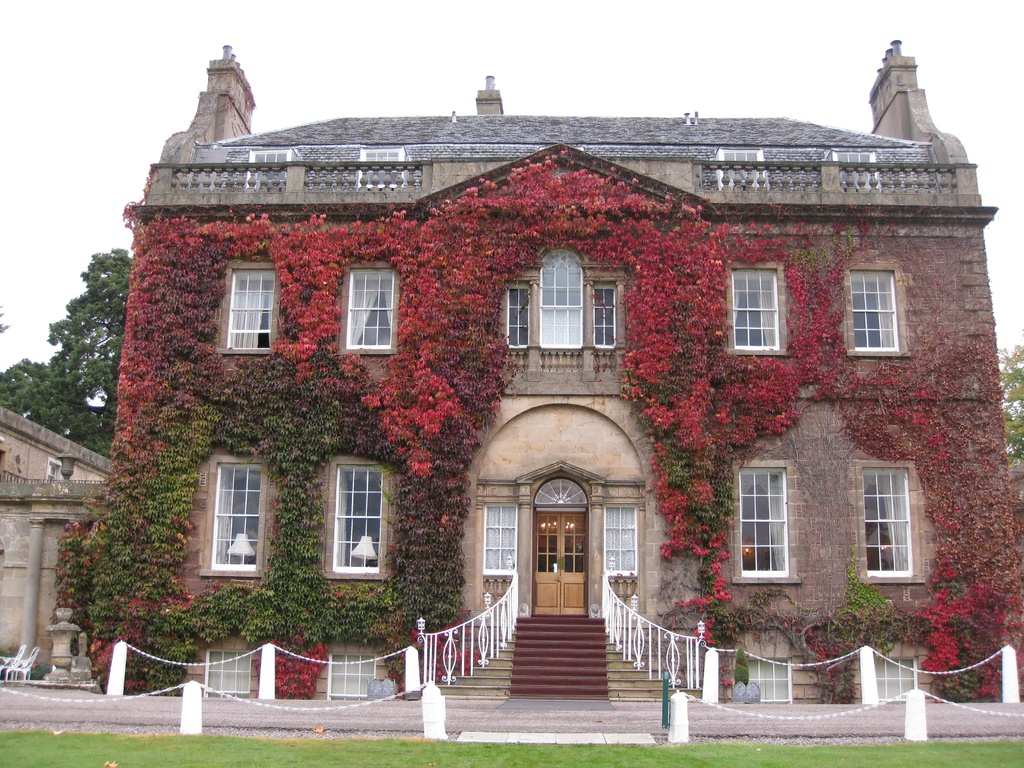Tree: (0, 246, 133, 460)
